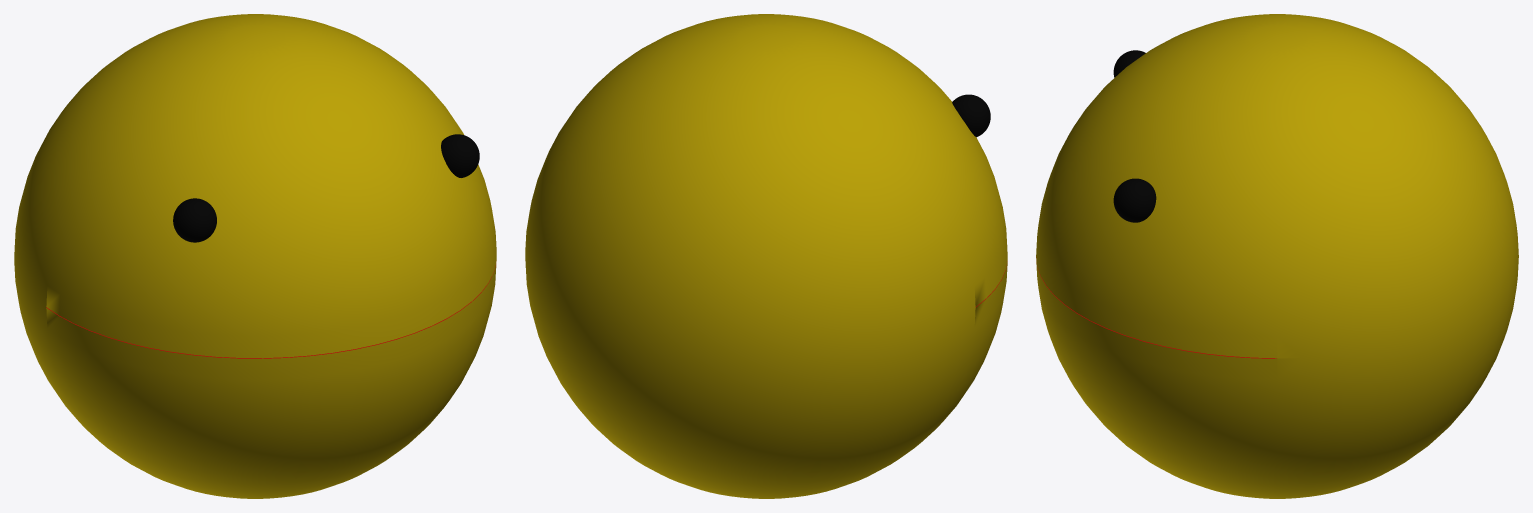
Rendered from pacman0010.obj.
3 renders of one model, left to right at view 1: azimuth 30°, elevation 25°; view 2: azimuth 150°, elevation 25°; view 3: azimuth 270°, elevation 25°, orthographic.
Visible parts, largest first — view 1: Body, Eyes; view 2: Body, Eyes; view 3: Body, Eyes.
Boxes of the visible parts, x1,y1,x2,y2 form: Body: (14,14,496,498); Eyes: (173,134,479,242); Body: (525,14,1007,498); Eyes: (952,94,990,137); Body: (1036,14,1518,498); Eyes: (1113,50,1156,222).
Size of the model in its own units: 6.6 by 6.67 by 6.6.
